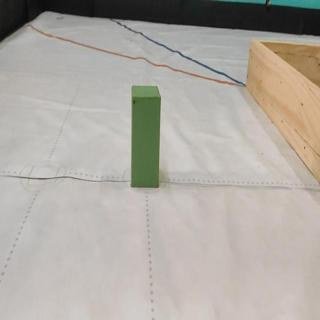greenbox: (129, 83, 162, 188)
